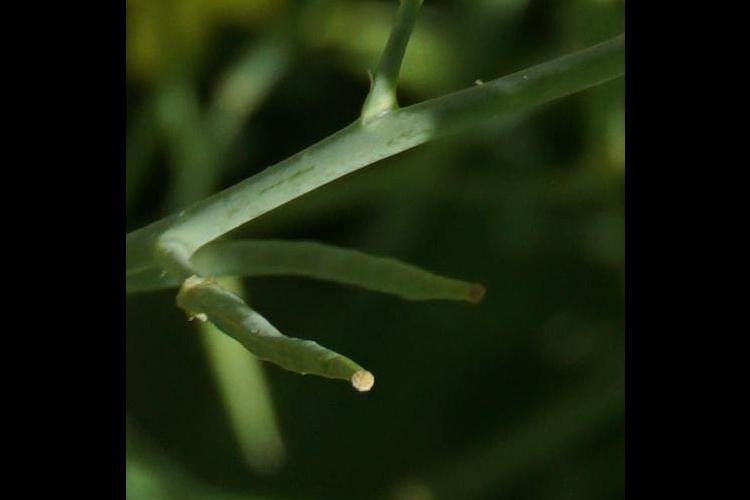pod: (208, 222, 502, 360), (161, 264, 386, 437)
